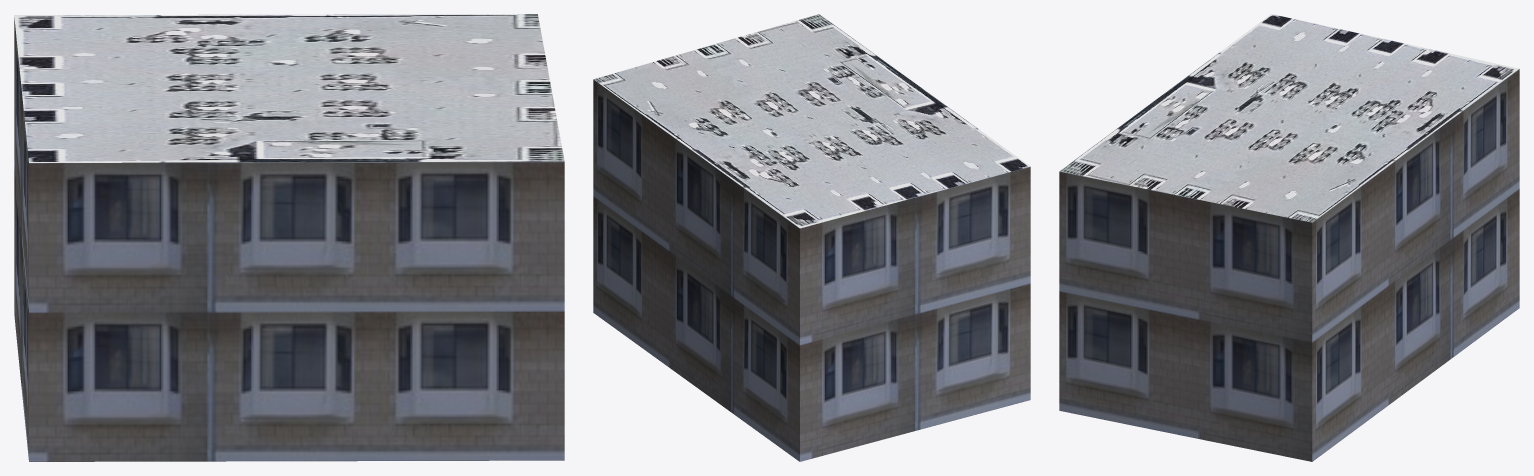
Rendered from ResTex__904.fbx.
The picture shows the model from 3 angles, left to right: view 1: azimuth 30°, elevation 25°; view 2: azimuth 150°, elevation 25°; view 3: azimuth 270°, elevation 25°; orthographic projection. The views are drawn at different scales.
Parts seen in each view (by area): view 1: CityEngineMaterial_3_m, CityEngineMaterial_m; view 2: CityEngineMaterial_3_m, CityEngineMaterial_m; view 3: CityEngineMaterial_3_m, CityEngineMaterial_m.
Part boxes in pixels (left/top/right/bottom): CityEngineMaterial_3_m: left=14, top=18, right=564, bottom=461; CityEngineMaterial_m: left=14, top=14, right=564, bottom=162; CityEngineMaterial_3_m: left=593, top=79, right=1030, bottom=461; CityEngineMaterial_m: left=594, top=14, right=1029, bottom=228; CityEngineMaterial_3_m: left=1059, top=69, right=1519, bottom=461; CityEngineMaterial_m: left=1059, top=14, right=1519, bottom=222.
Bounding box in the file's own units: 11.22 × 6 × 10.46.
2 materials, 2 textured.
